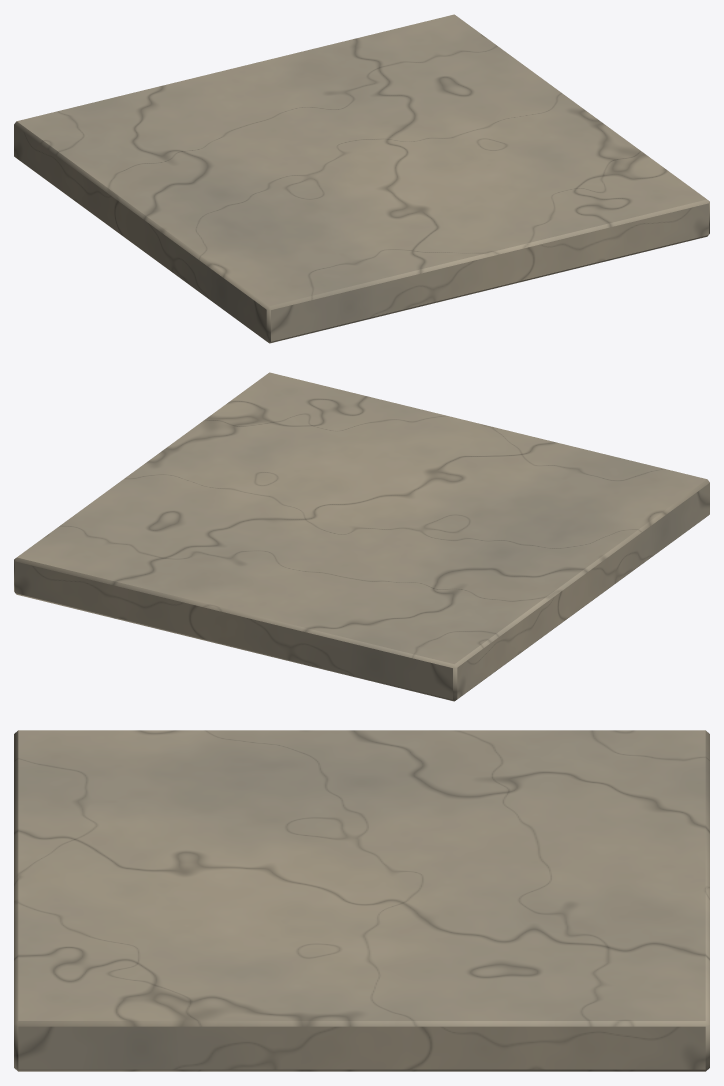
Rendered from tile_light.glb.
The picture shows the model from 3 angles, top to bottom: view 1: azimuth 30°, elevation 25°; view 2: azimuth 150°, elevation 25°; view 3: azimuth 270°, elevation 25°; orthographic projection. The views are drawn at different scales.
Parts seen in each view (by area): view 1: Tile_Light_Mesh; view 2: Tile_Light_Mesh; view 3: Tile_Light_Mesh.
Part boxes in pixels (x1,y1,x2,y2): Tile_Light_Mesh: [14, 14, 709, 343]; Tile_Light_Mesh: [14, 372, 709, 701]; Tile_Light_Mesh: [14, 730, 709, 1071].
Bounding box in the file's own units: 0.995 × 0.08 × 0.995.
Materials: 1 (1 with a texture image).
